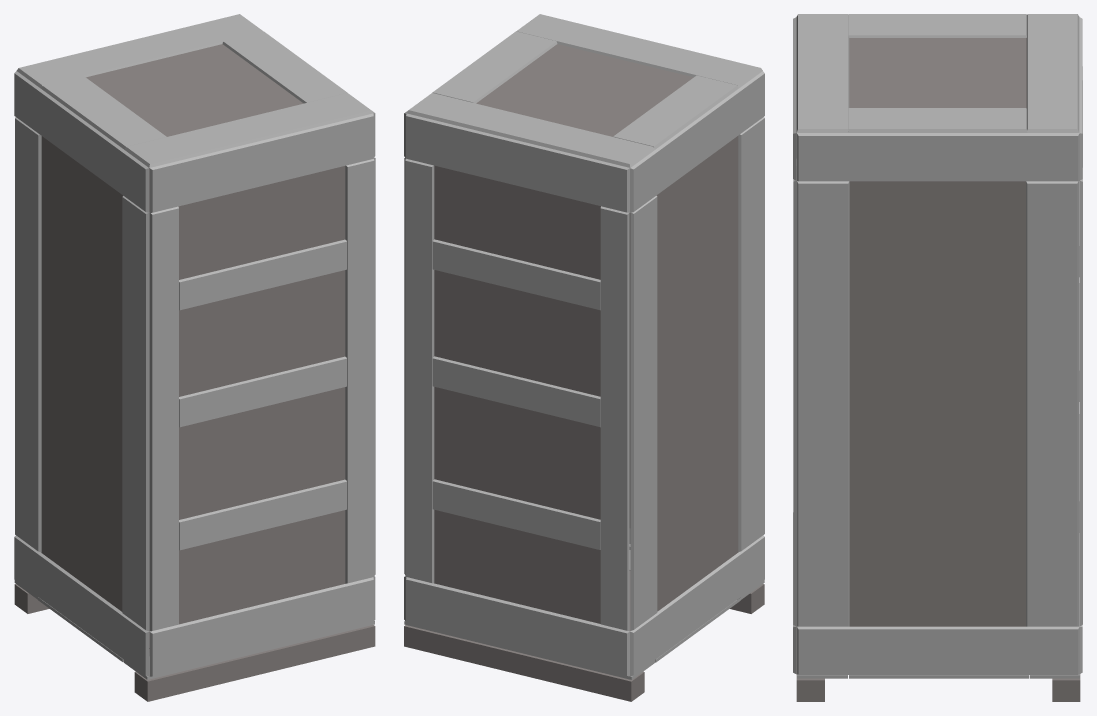
Rendered from SM_Big_Box_02.fbx.
3 renders of one model, left to right at view 1: azimuth 30°, elevation 25°; view 2: azimuth 150°, elevation 25°; view 3: azimuth 270°, elevation 25°, orthographic. The views are drawn at different scales.
Visible parts, largest first — view 1: SM_Big_Box_02; view 2: SM_Big_Box_02; view 3: SM_Big_Box_02.
Boxes of the visible parts, x1,y1,x2,y2 form: SM_Big_Box_02: [14, 14, 375, 701]; SM_Big_Box_02: [404, 14, 764, 701]; SM_Big_Box_02: [793, 14, 1082, 701].
Size of the model in its own units: 107 by 239 by 110.
